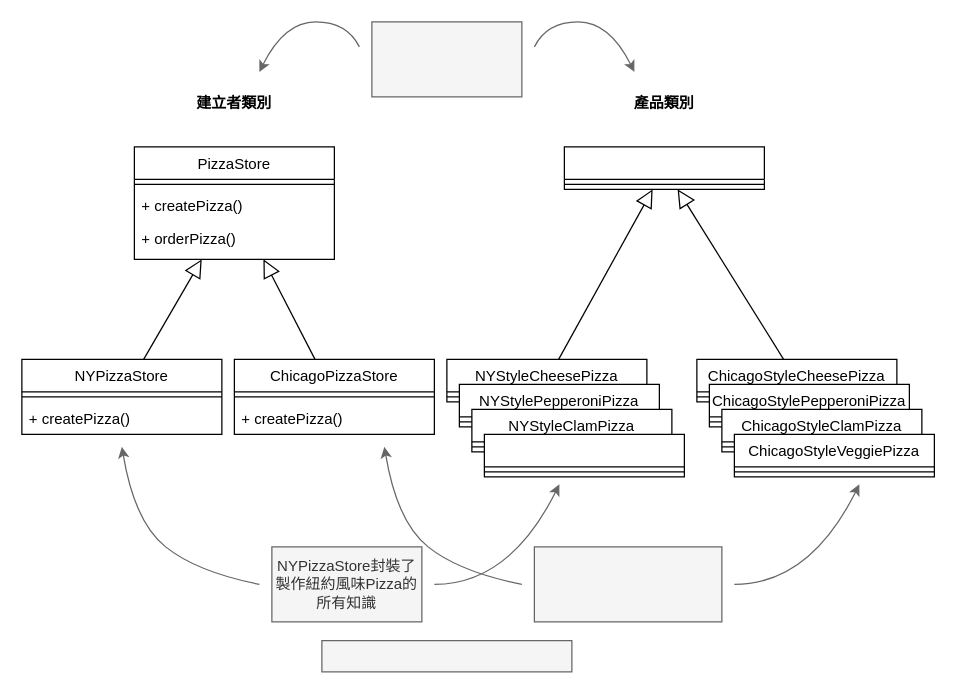
Some shapes in this 956 by 694 pixel diagram are drawn without their labels. Each missing label, with the centre of its shape:
"ChicagoPizzaStore封裝了製作芝加哥風味Pizza的 所有知識" goes at pixel 627 584.
"NYStyleVeggiePizza" goes at pixel 583 455.
"Pizza" goes at pixel 663 167.
"他們階層是平行的，因為都有讓具體類別繼承的抽象類別" goes at pixel 446 59.
"工廠方法是封裝這種知識的關鍵" goes at pixel 446 655.
